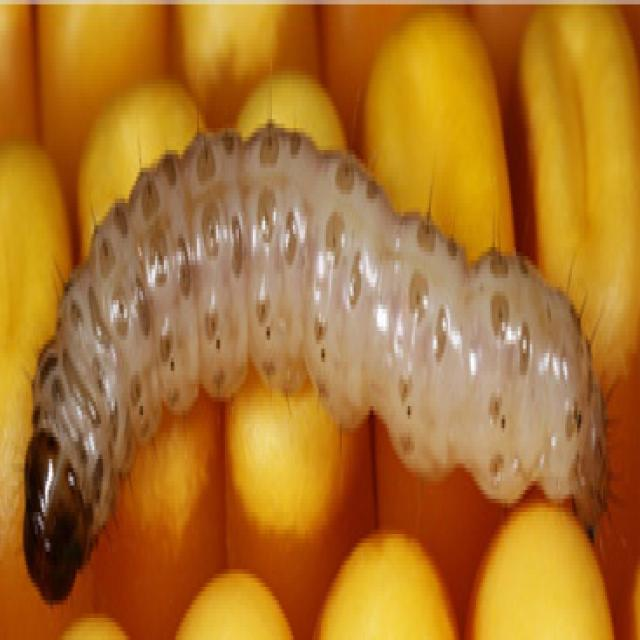cornborer-Larva-: (25, 99, 610, 620)
